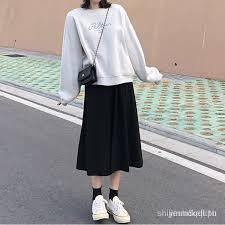skirt: (73, 82, 145, 176)
sweater: (57, 4, 163, 105)
